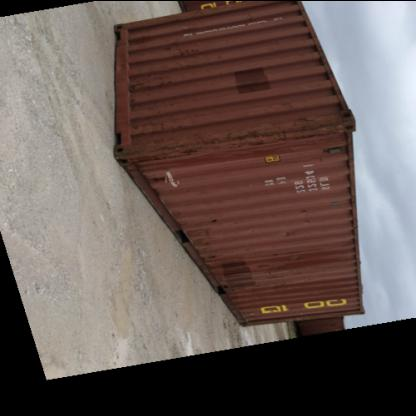Damage: (122, 122, 350, 166), (260, 246, 312, 278), (161, 29, 209, 61), (230, 276, 288, 300), (121, 76, 188, 94), (193, 232, 228, 266), (148, 168, 178, 194), (298, 199, 318, 233), (200, 210, 229, 228)
